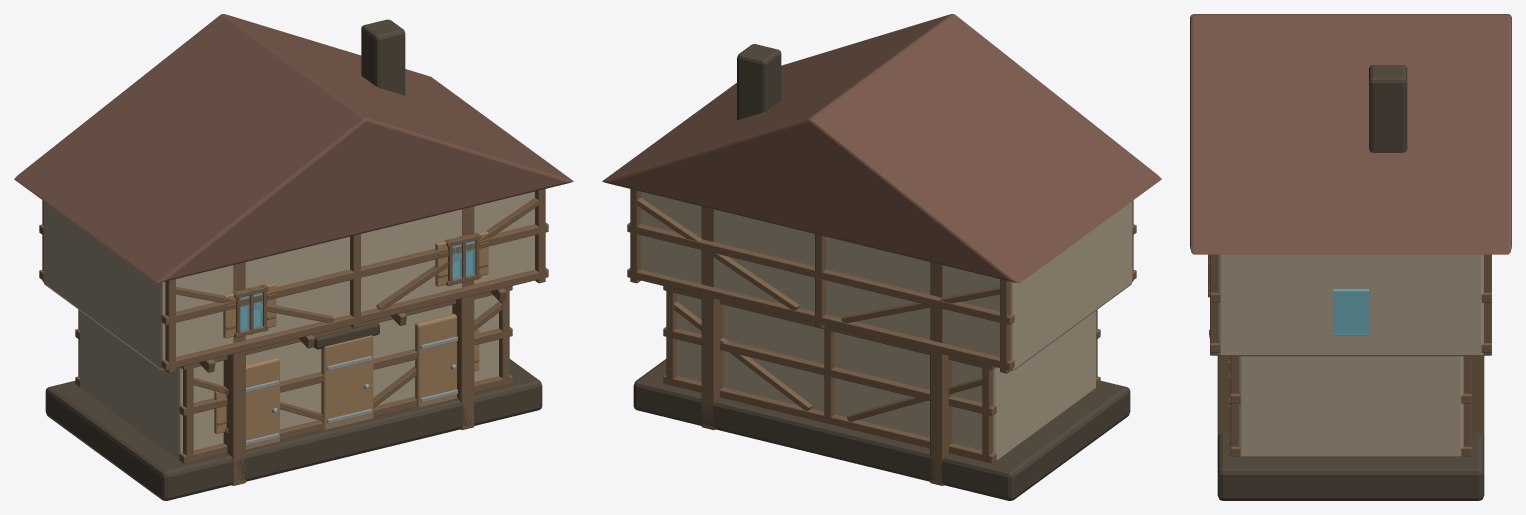
The model's file is row_house.glb.
The picture shows the model from 3 angles, left to right: view 1: azimuth 30°, elevation 25°; view 2: azimuth 150°, elevation 25°; view 3: azimuth 270°, elevation 25°; orthographic projection. The views are drawn at different scales.
Parts seen in each view (by area): view 1: Roof, OverhangingUpperFloor, StoneFoundation, GroundFloor, TimberBeam.006, INTERACT_Door, TimberBeam.008, INTERACT_RowDoorB, Chimney, PartyWallPier, PartyWallPier.001, INTERACT_RowDoorA (+14 smaller); view 2: Roof, OverhangingUpperFloor, GroundFloor, StoneFoundation, TimberBeam.007, TimberBeam.009, PartyWallPier, PartyWallPier.001, TimberBeam.003, TimberBeam.001, Chimney, DiagonalBrace.007 (+10 smaller); view 3: Roof, OverhangingUpperFloor, GroundFloor, StoneFoundation, Chimney, PartyWallPier.001, WindowGlass.005, TimberPost.004, TimberPost.005, TimberPost.010, TimberPost.011.
Boxes of the visible parts, x1,y1,x2,y2 form: Roof: [14, 14, 573, 283]; OverhangingUpperFloor: [43, 191, 534, 370]; StoneFoundation: [45, 359, 542, 500]; GroundFloor: [79, 295, 498, 459]; TimberBeam.006: [161, 268, 548, 370]; INTERACT_Door: [321, 335, 373, 429]; TimberBeam.008: [161, 222, 548, 324]; INTERACT_RowDoorB: [415, 313, 456, 407]; Chimney: [361, 19, 405, 95]; PartyWallPier: [223, 262, 245, 485]; PartyWallPier.001: [452, 206, 474, 430]; INTERACT_RowDoorA: [246, 357, 279, 449]; Roof: [602, 14, 1161, 283]; OverhangingUpperFloor: [641, 191, 1132, 370]; GroundFloor: [677, 293, 1096, 459]; StoneFoundation: [633, 359, 1130, 500]; TimberBeam.007: [627, 268, 1014, 370]; TimberBeam.009: [627, 222, 1014, 324]; PartyWallPier: [930, 262, 952, 485]; PartyWallPier.001: [701, 206, 723, 430]; TimberBeam.003: [663, 327, 996, 415]; TimberBeam.001: [663, 374, 996, 463]; Chimney: [737, 44, 781, 119]; DiagonalBrace.007: [637, 198, 799, 310]; Roof: [1190, 14, 1511, 254]; OverhangingUpperFloor: [1218, 254, 1483, 356]; GroundFloor: [1238, 356, 1463, 456]; StoneFoundation: [1217, 432, 1484, 500]; Chimney: [1369, 65, 1407, 152]; PartyWallPier.001: [1217, 355, 1484, 436]; WindowGlass.005: [1333, 289, 1368, 335]; TimberPost.004: [1230, 356, 1238, 446]; TimberPost.005: [1463, 356, 1471, 446]; TimberPost.010: [1210, 254, 1218, 355]; TimberPost.011: [1483, 254, 1491, 355].
Bounding box in the file's own units: 10.05 × 8 × 6.04.
